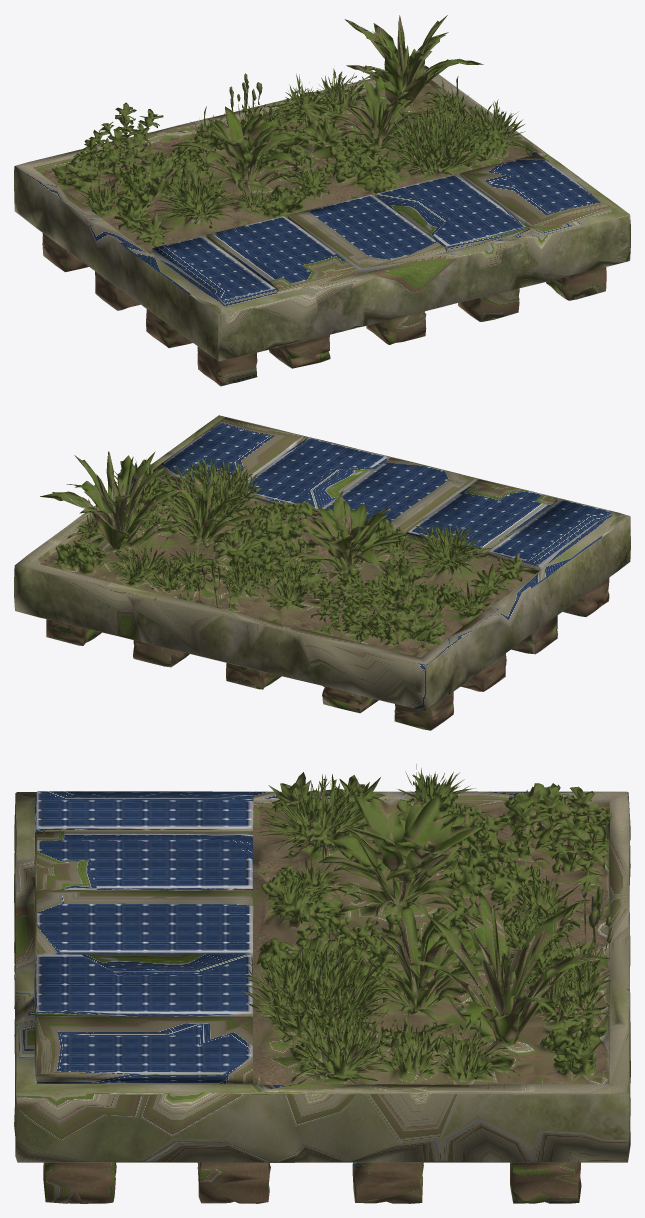
The model's file is pvplanter.glb.
3 renders of one model, top to bottom at view 1: azimuth 30°, elevation 25°; view 2: azimuth 150°, elevation 25°; view 3: azimuth 270°, elevation 25°, orthographic. The views are drawn at different scales.
Bounding box in the file's own units: 1.88 × 0.7556 × 1.61.
1 material, 1 textured.
